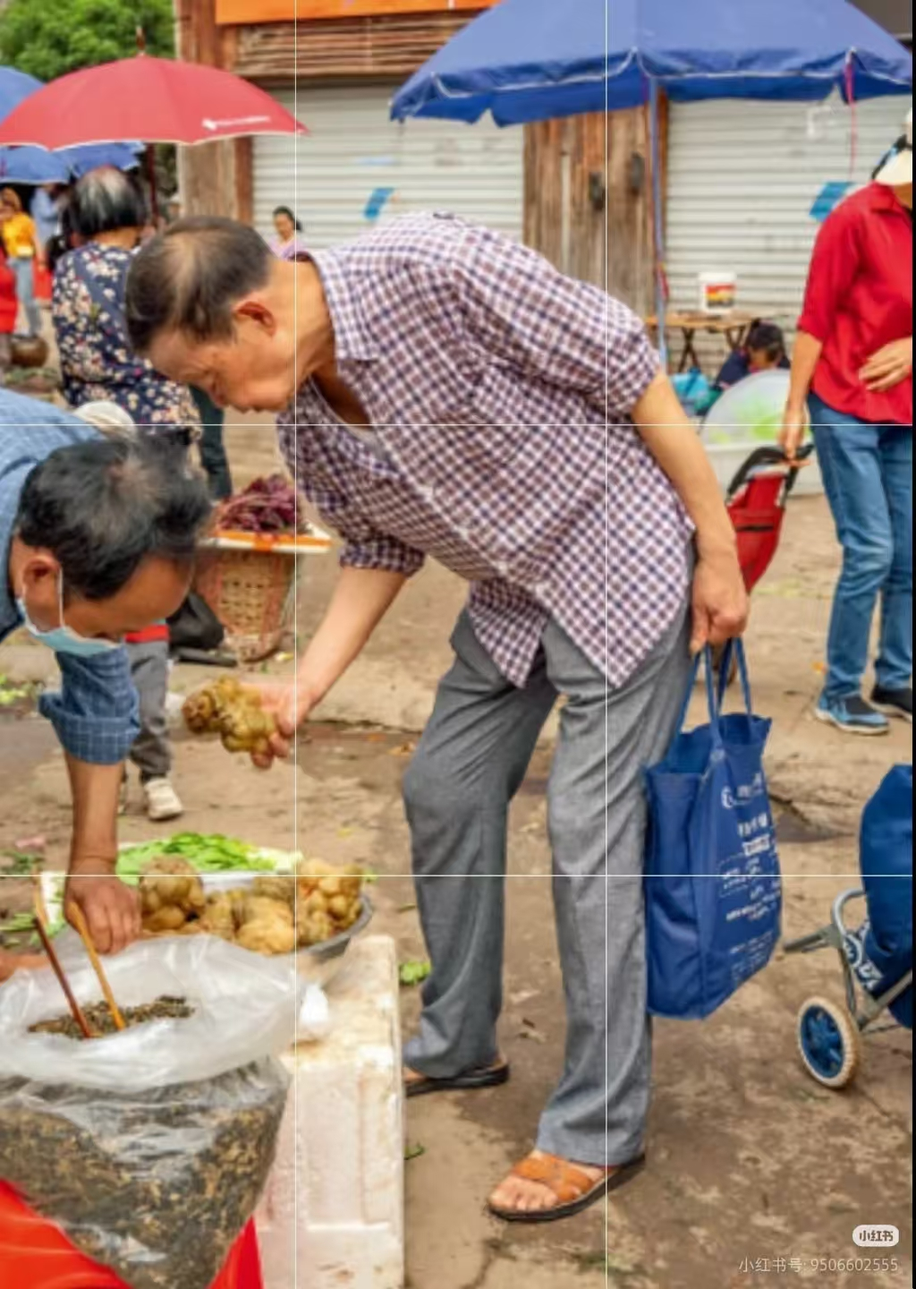bending: (109, 197, 729, 1250)
